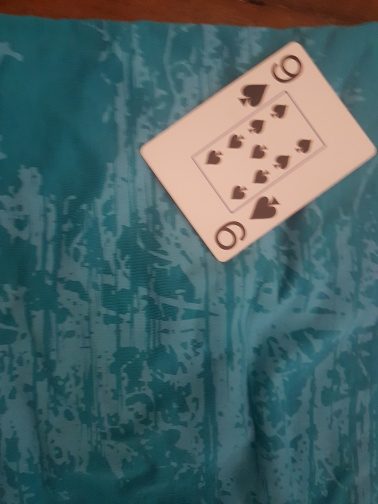nine: (140, 42, 376, 264)
